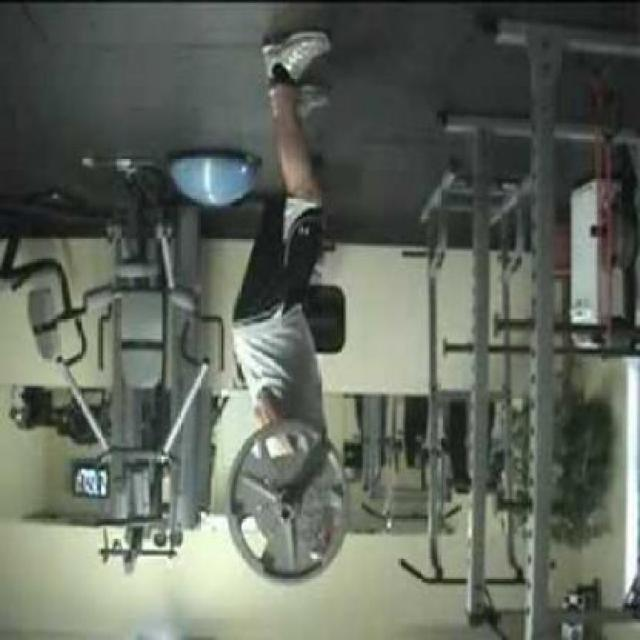Barbell: (274, 498, 298, 530)
